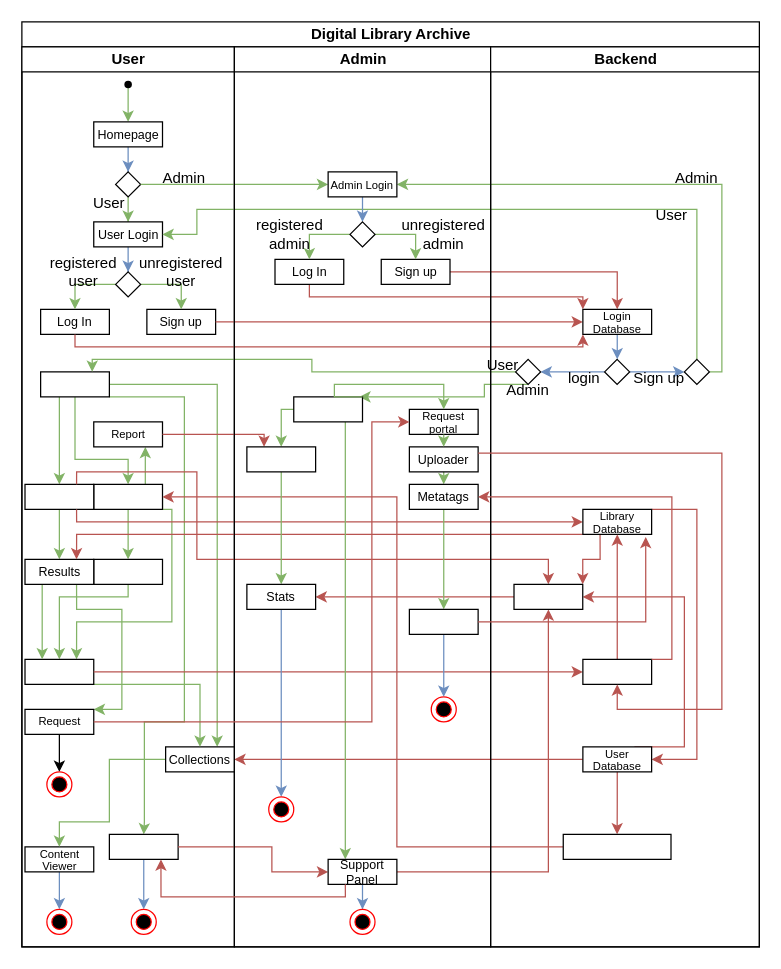
The diagram is 781 pixels wide and 969 high, and some of its shapes have lost their labels. The centre of each missing label's shape, as x and y in pixels:
Admin Panel: [327,409]
Encryption: [617,671]
Moderation panel: [281,459]
Notification: [127,571]
Personalized Feed: [127,496]
Poster: [443,621]
Recommendation: [616,846]
Rental: [59,671]
Search: [59,496]
Stats Analyzer: [548,596]
Support: [143,846]
User Account: [74,384]
